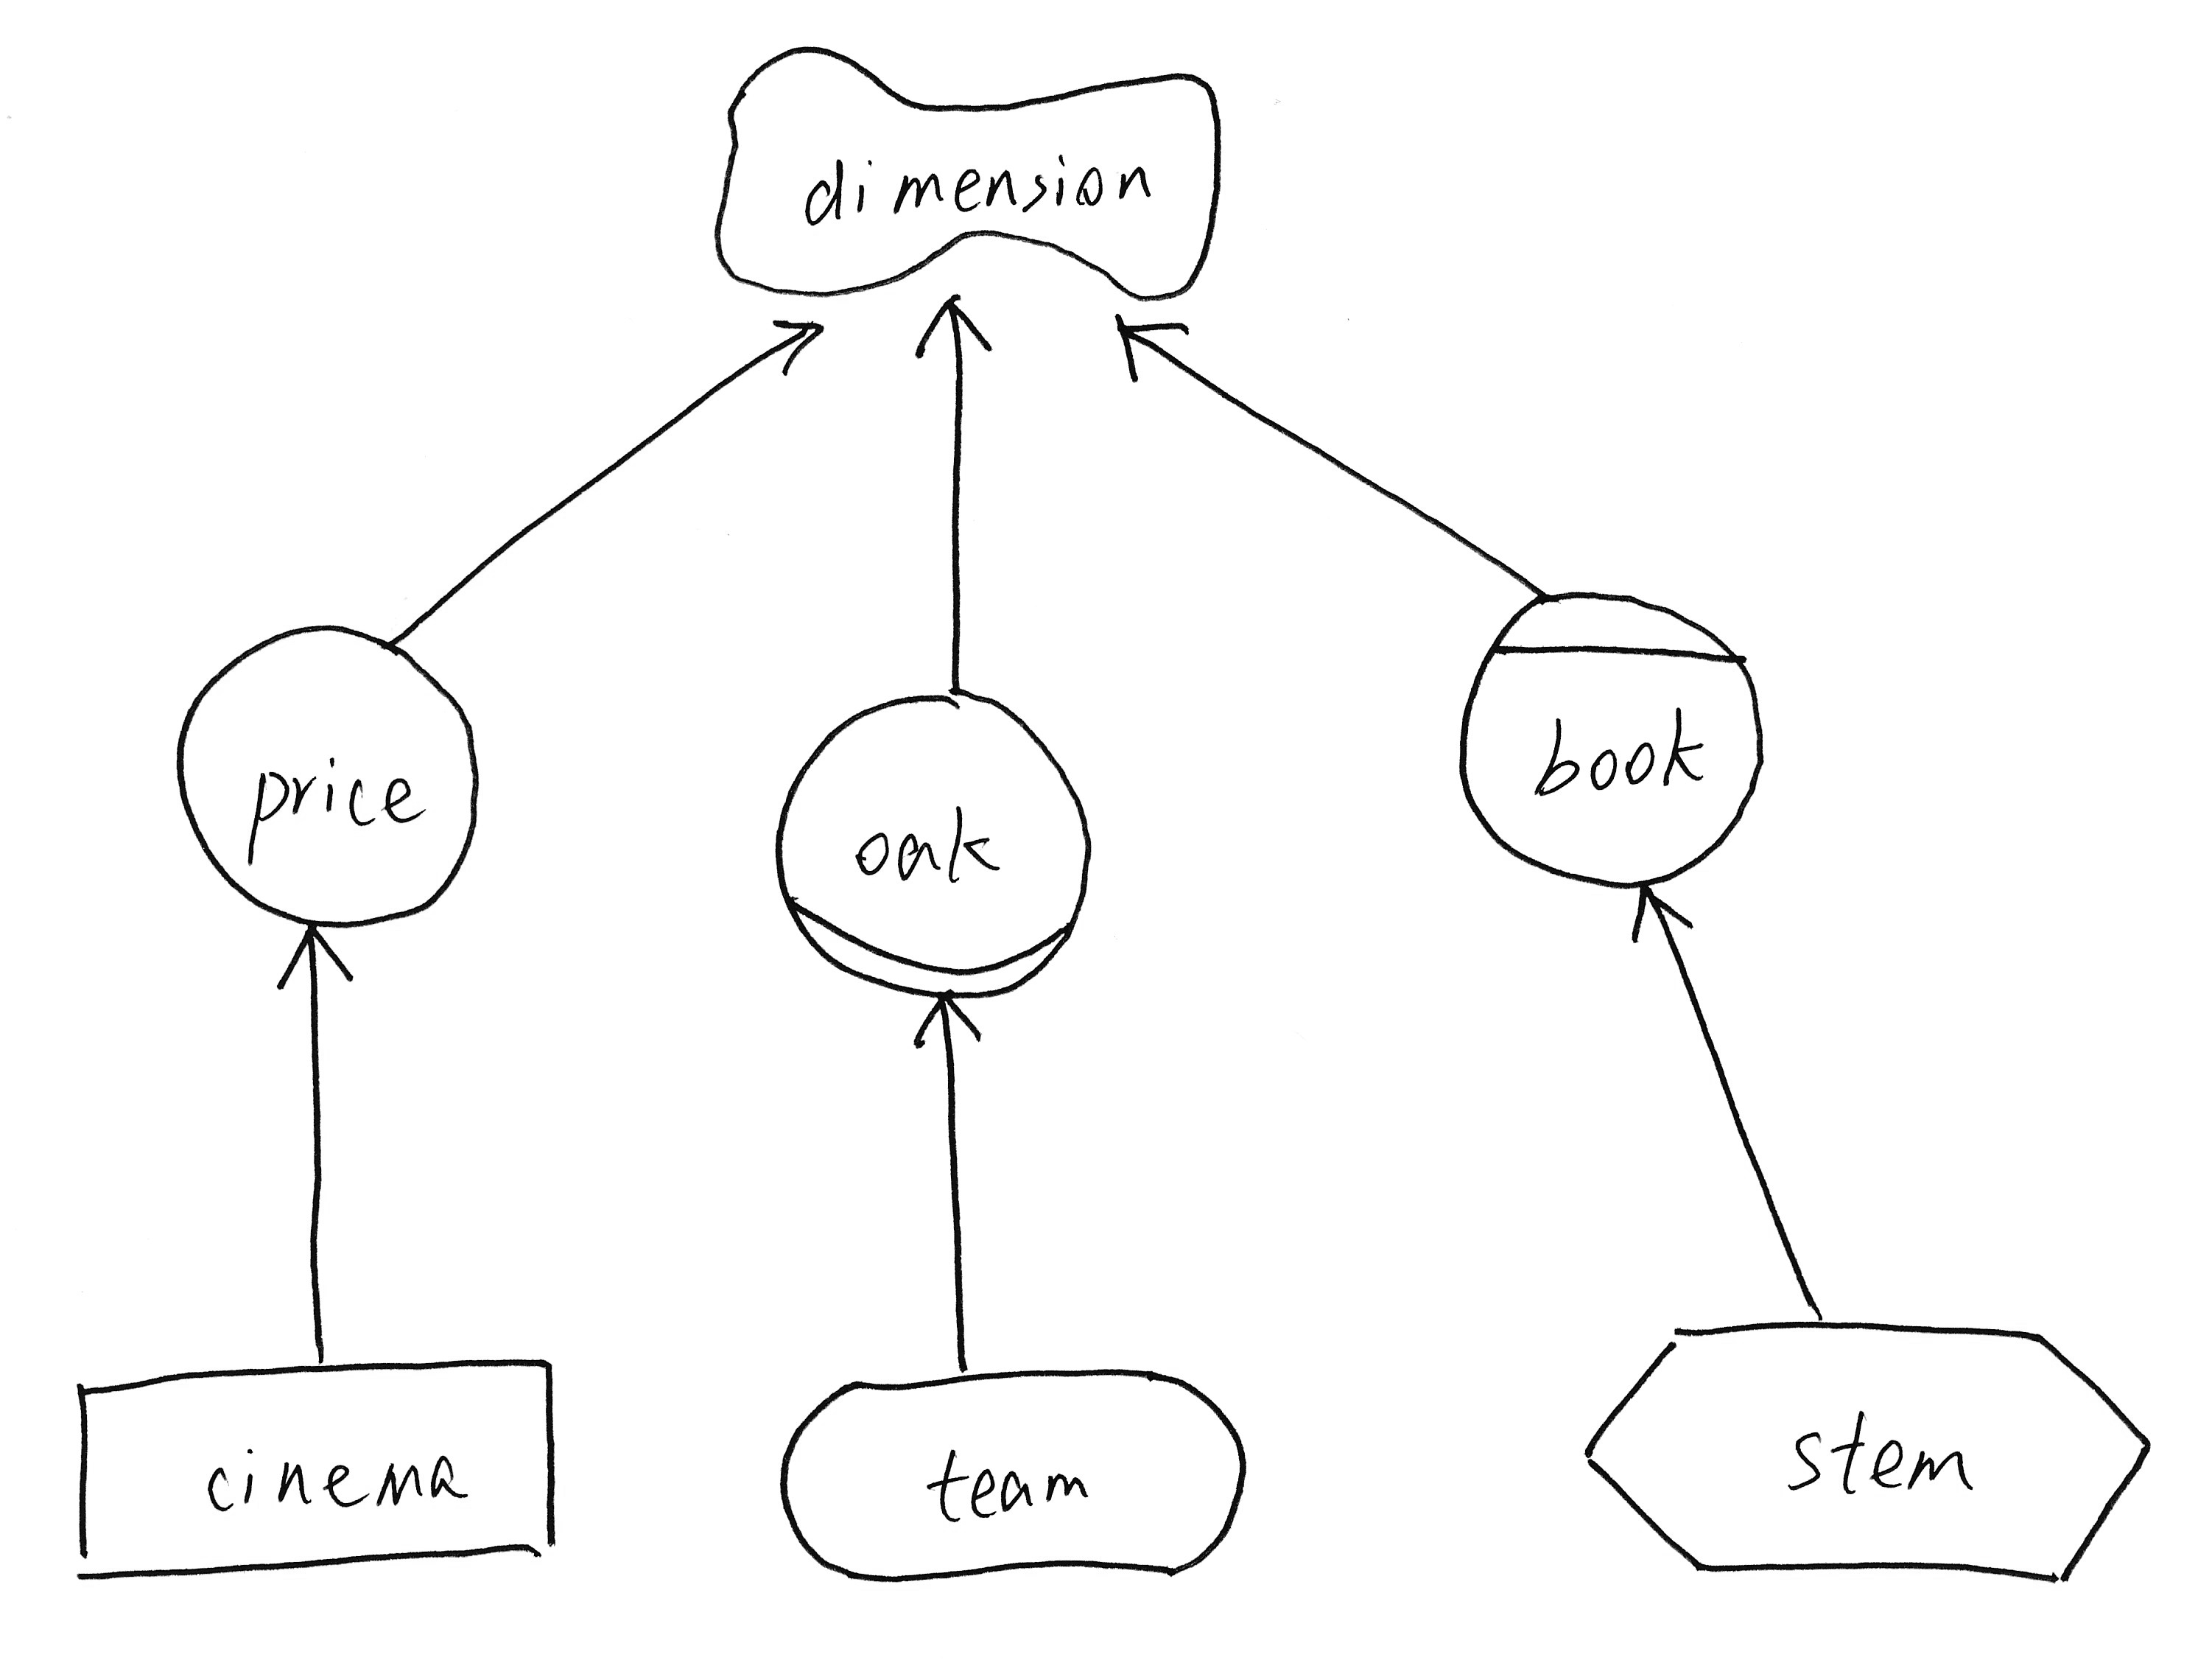actor: (158, 610, 499, 946)
agent: (1444, 568, 1790, 897)
arrow: (262, 900, 367, 1006), (907, 280, 1008, 382), (1612, 870, 1706, 962), (1104, 299, 1199, 385), (899, 979, 993, 1064), (758, 301, 835, 385)
goal: (753, 1347, 1271, 1598)
quality: (698, 25, 1254, 327)
resource: (55, 1333, 584, 1598)
role: (758, 675, 1106, 1015)
task: (1567, 1305, 2175, 1604)
